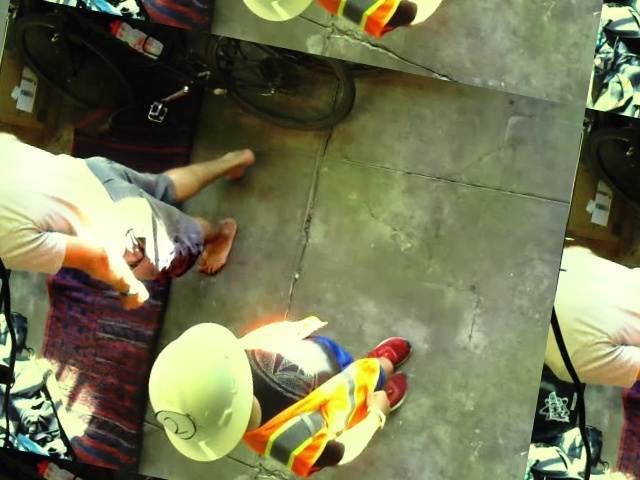two: (151, 406, 197, 441)
